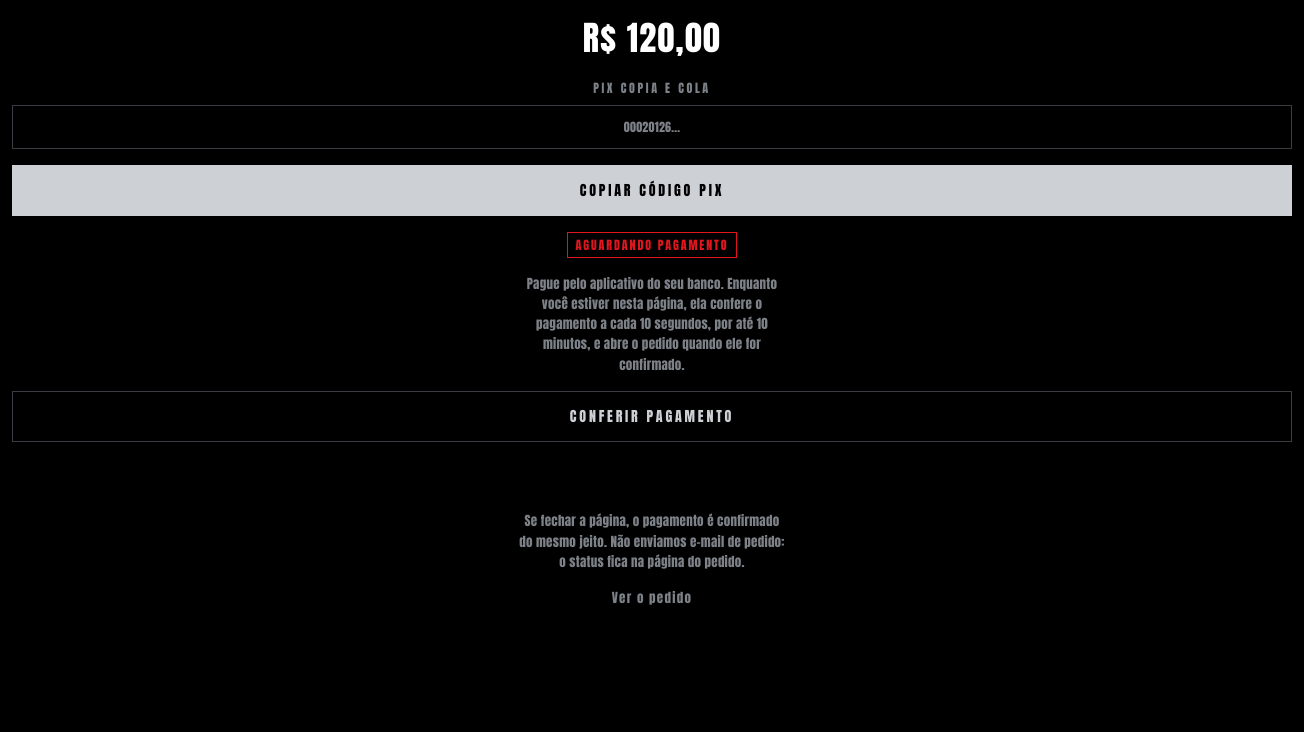
Test case: o botao Conferir pagamento › sem-sessao: avisa como alerta e o QR fica
Click the button "Conferir pagamento" at (652, 416), box [12,391,1292,442]
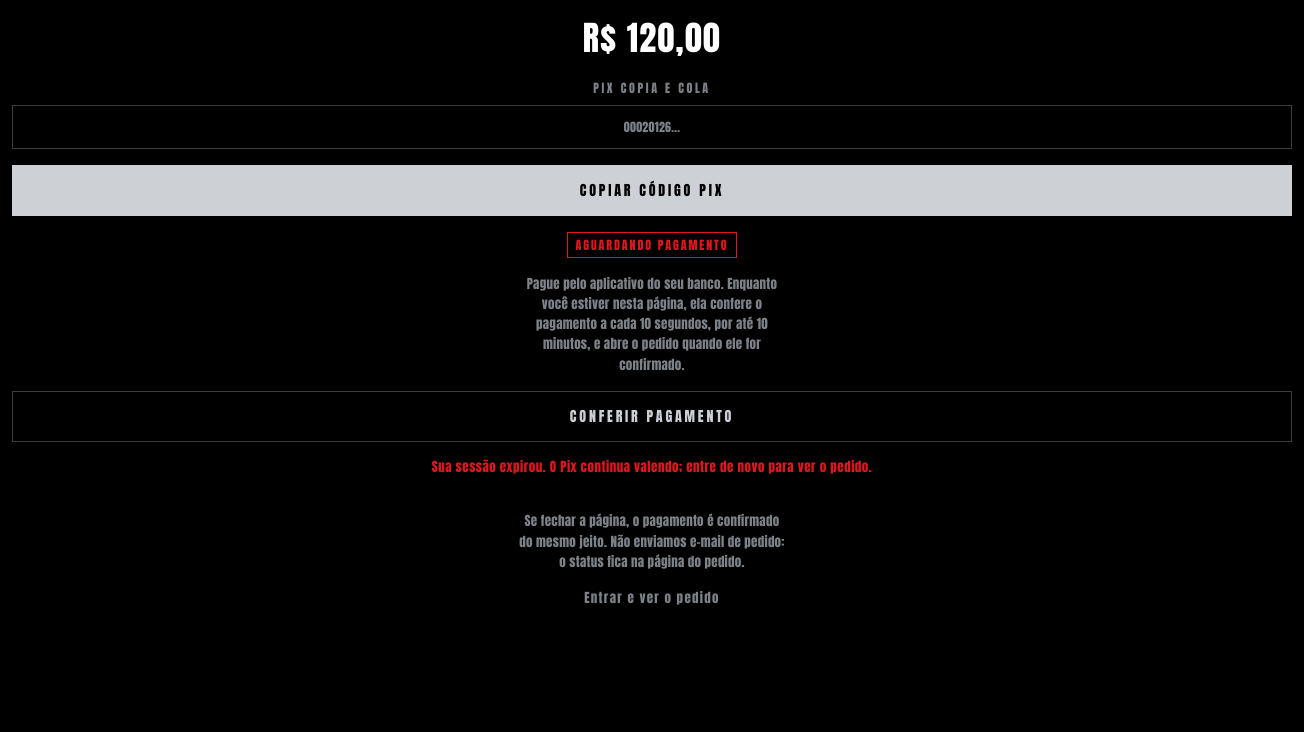
Expected: the field labelled "Pix copia e cola" is shown, [12,105,1292,149]
Result: the message "Sua sessão expirou. O Pix continua valendo; entre de novo para ver o pedido." is shown at [432,458,872,476]
